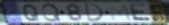8: (64, 3, 84, 22)
D: (84, 3, 105, 23)
E: (129, 3, 153, 22)
M: (107, 3, 134, 22)
Q: (41, 3, 63, 22), (23, 4, 42, 22)
